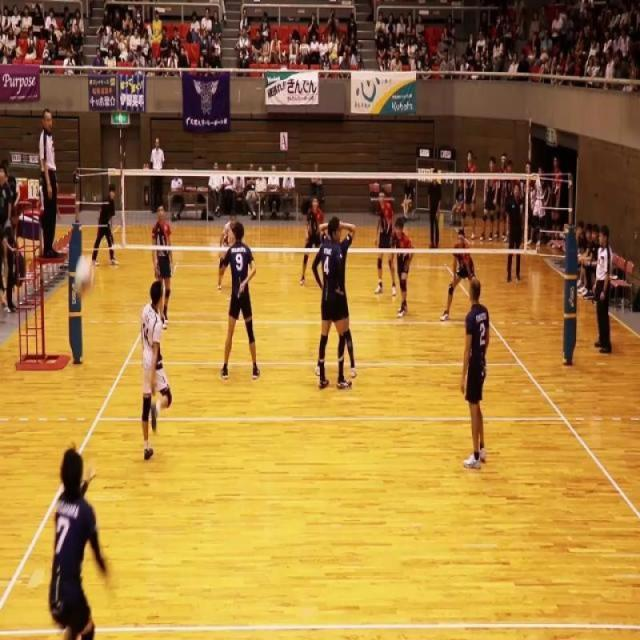volleyball: (74, 253, 96, 298)
